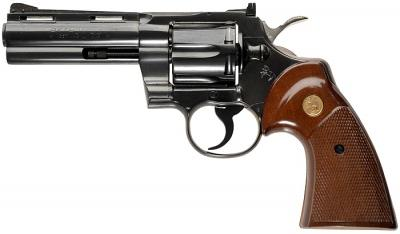gun: (1, 0, 400, 234)
